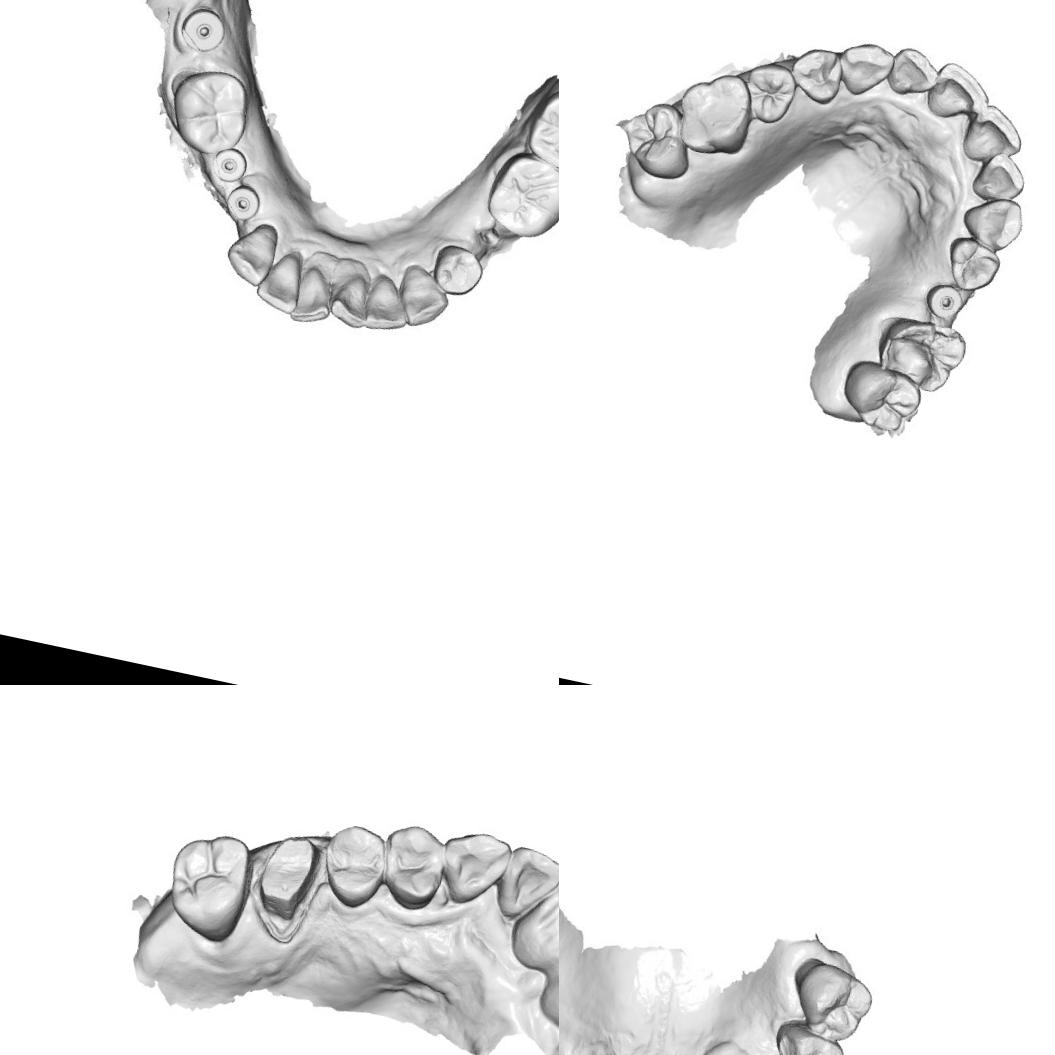canine: (433, 823, 514, 914), (218, 215, 284, 292), (956, 188, 1029, 256), (394, 260, 458, 334), (838, 37, 894, 102)
crown: (248, 828, 322, 925)
implant: (180, 0, 232, 54), (220, 180, 264, 225), (207, 143, 250, 185), (925, 282, 966, 324)
incisor: (490, 838, 559, 927), (512, 867, 559, 980), (252, 243, 306, 315), (927, 61, 991, 120), (961, 107, 1024, 162), (359, 272, 412, 337), (328, 266, 372, 334), (289, 265, 336, 328), (890, 47, 945, 99), (974, 154, 1027, 202)
molar: (157, 823, 260, 945), (785, 952, 883, 1050), (163, 60, 257, 160), (477, 145, 559, 247), (840, 361, 930, 444), (880, 314, 969, 392), (675, 68, 754, 154), (617, 100, 697, 184), (527, 89, 559, 175)
premolar: (376, 818, 454, 912), (316, 818, 390, 912), (742, 61, 800, 130), (788, 44, 848, 110), (428, 239, 488, 302), (944, 234, 1004, 292), (769, 1016, 849, 1055)
